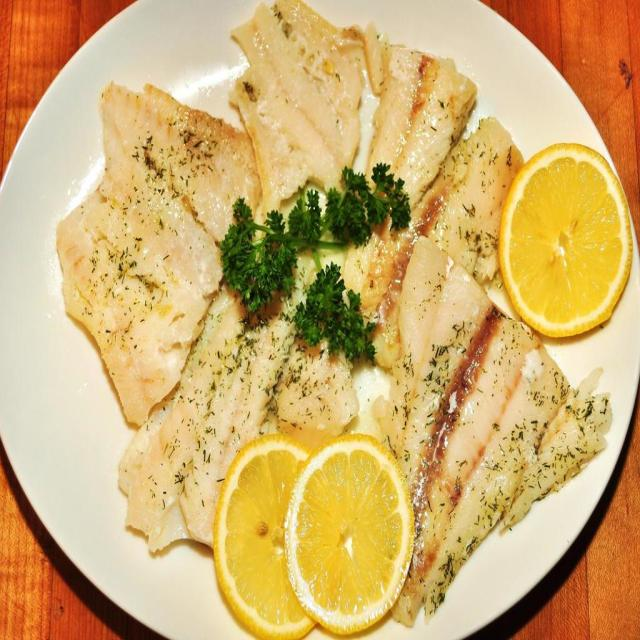Lemon: (284, 437, 414, 640), (500, 145, 630, 337), (215, 436, 316, 632)
